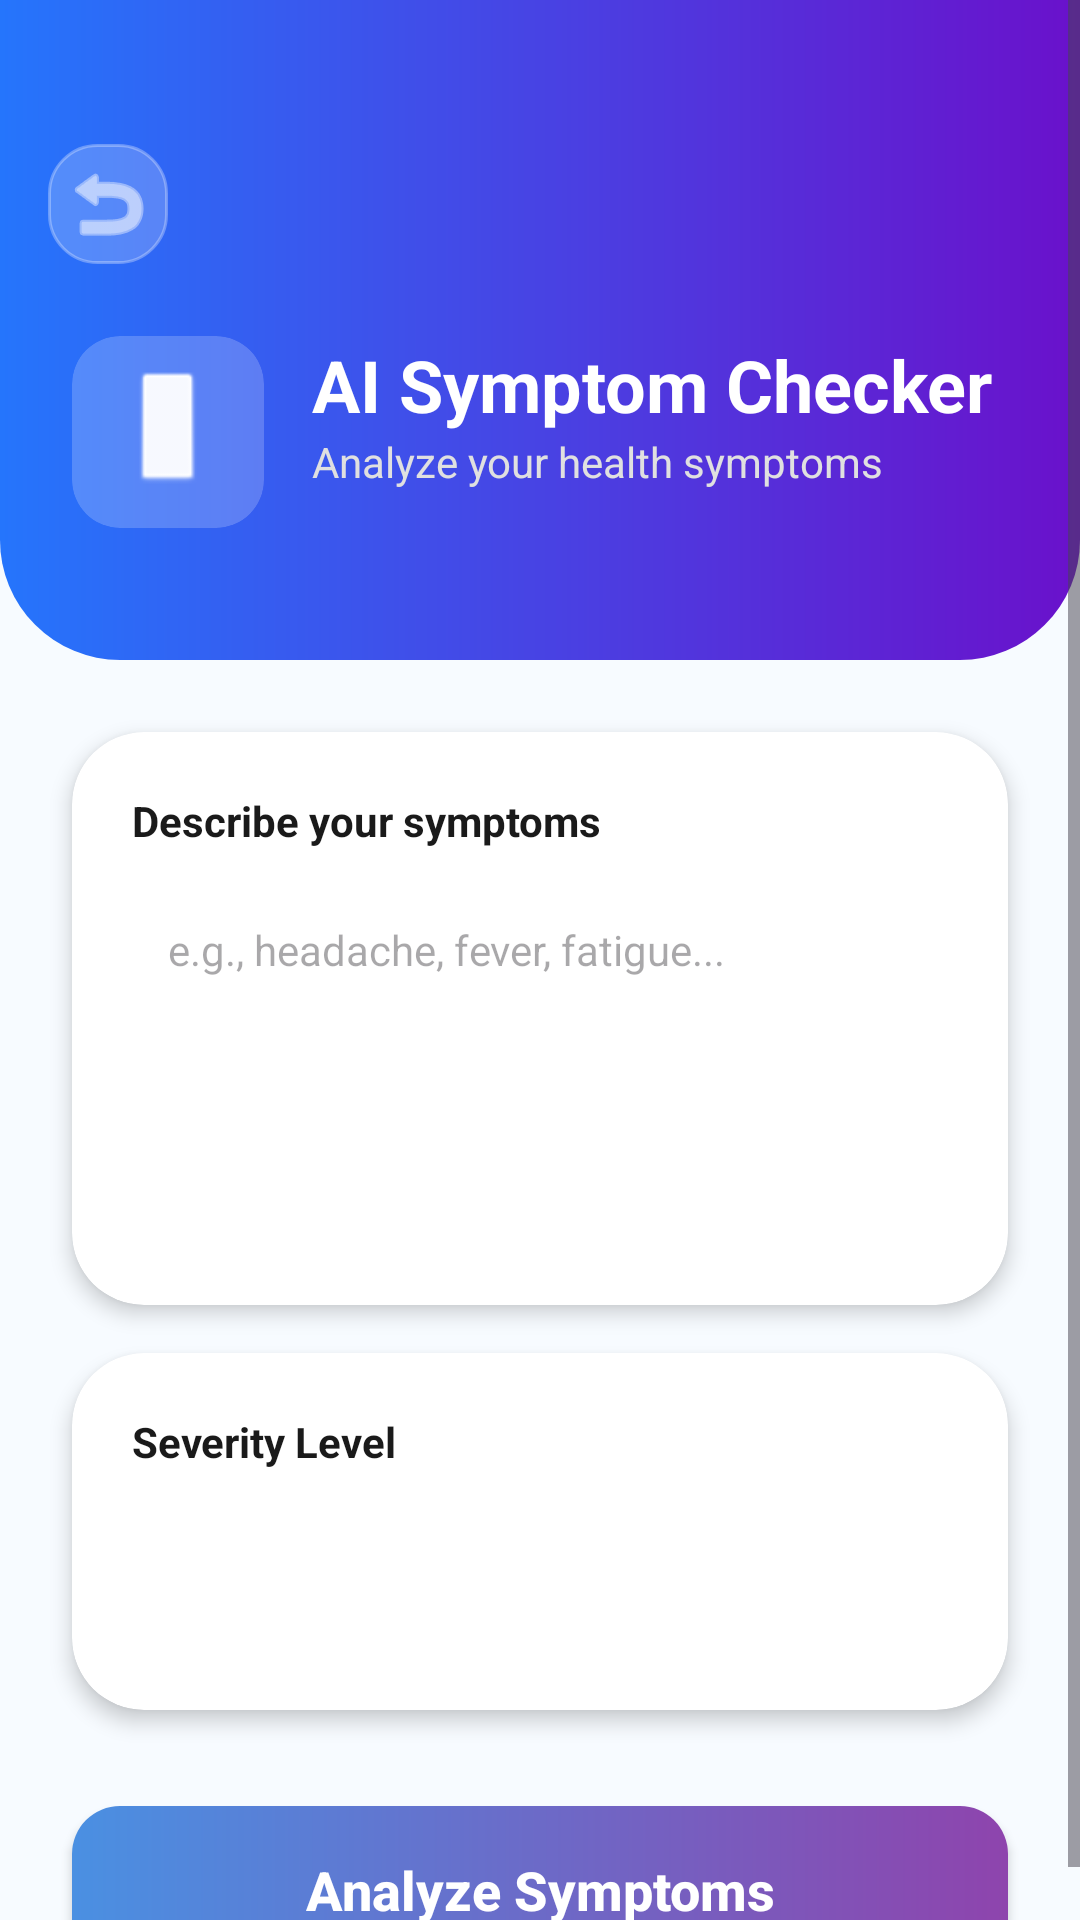

Where to tap for icons on this 1080x1920 app screen, as (x=x, y=y):
revert: (x=108, y=204)
